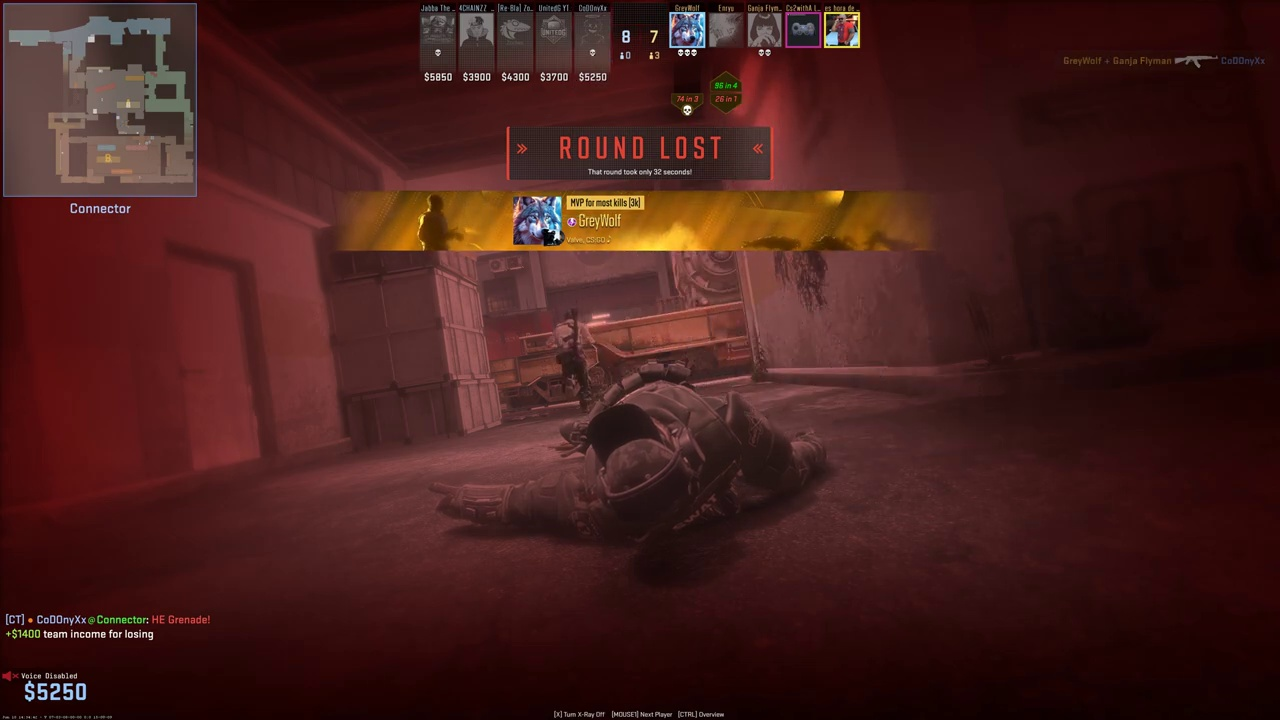Terrorist: (555, 313, 590, 413)
